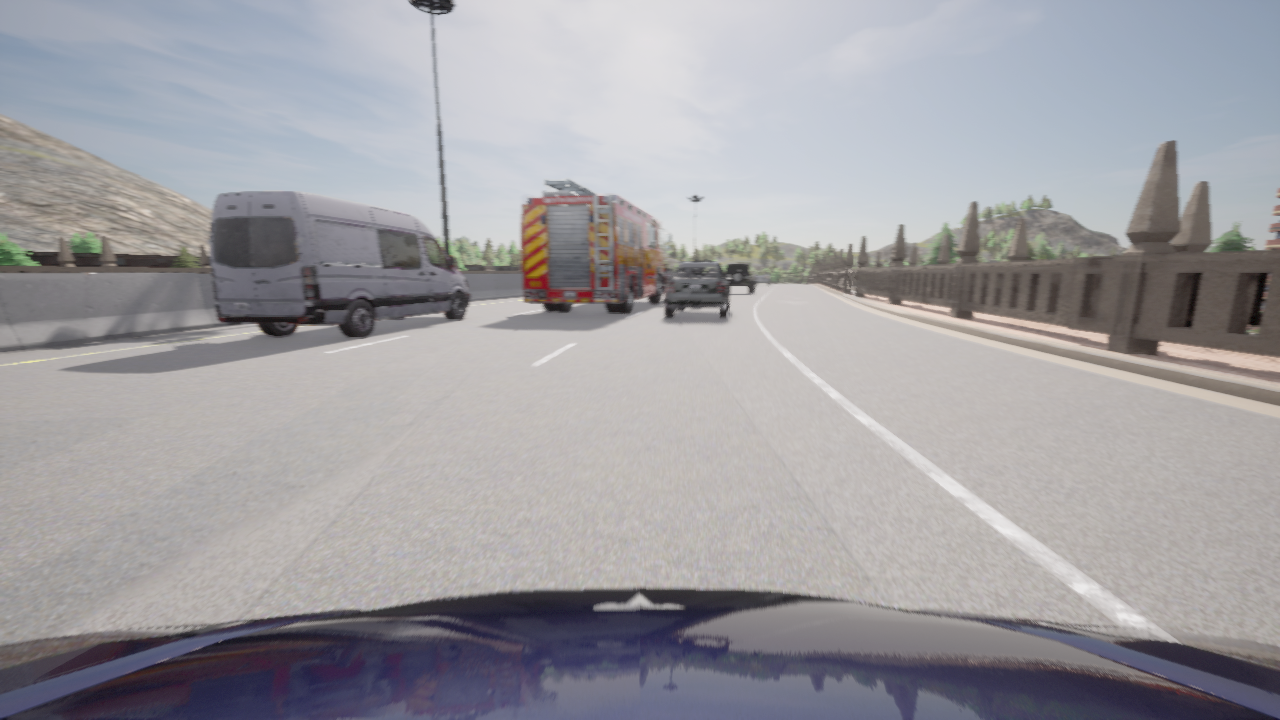cyclist: (0, 588, 1279, 719), (208, 191, 469, 337), (521, 178, 670, 312), (665, 261, 731, 318), (725, 262, 755, 293), (664, 268, 674, 284)
